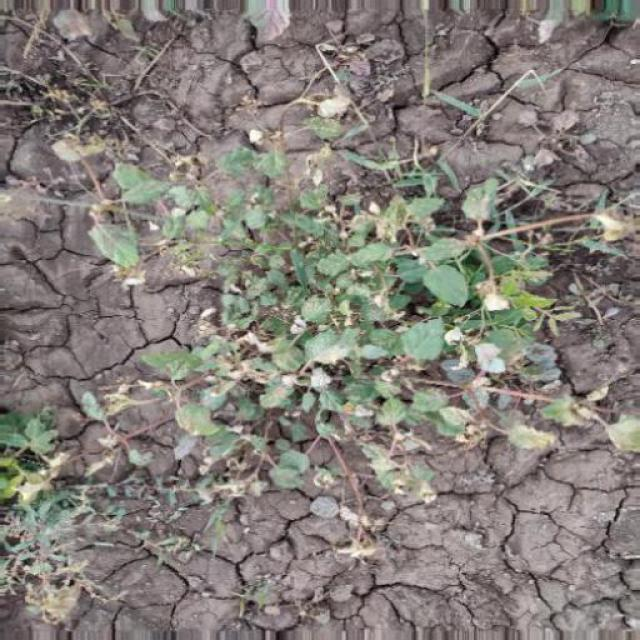weed: (127, 150, 585, 519)
